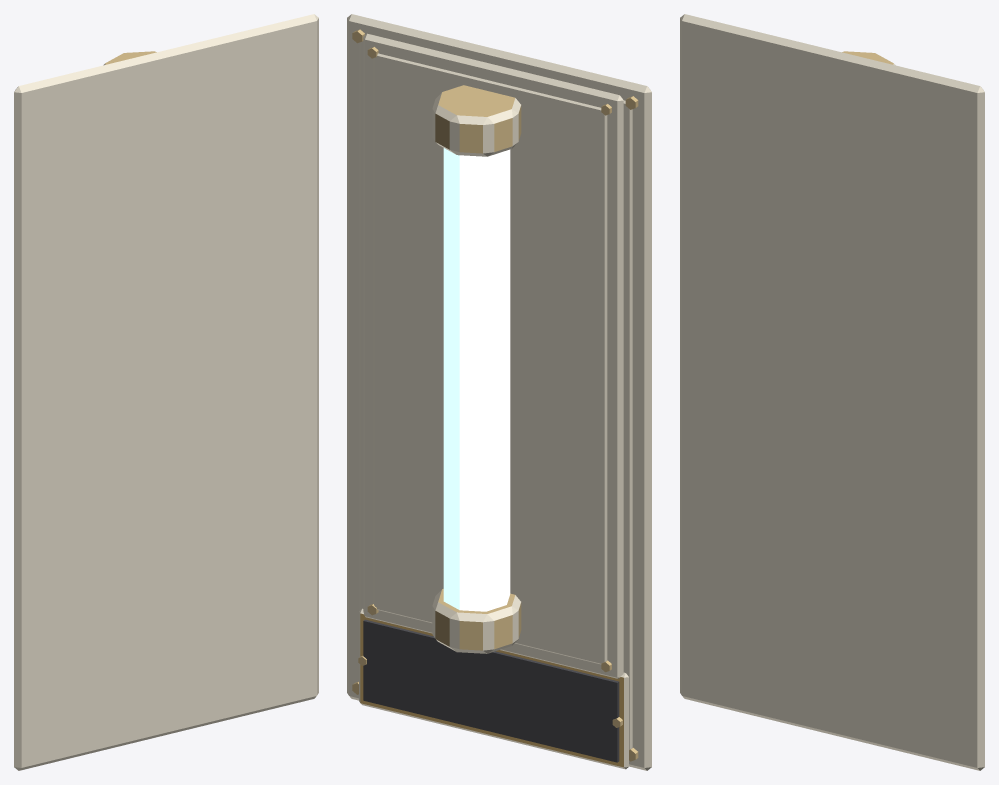
File: Disp_Light_1x2.fbx
3 renders of one model, left to right at view 1: azimuth 30°, elevation 25°; view 2: azimuth 150°, elevation 25°; view 3: azimuth 330°, elevation 25°, orthographic.
Parts seen in each view (by area): view 1: Disp_Light_1x2; view 2: Disp_Light_1x2, Bulb.001; view 3: Disp_Light_1x2.
Part boxes in pixels (<box>): Disp_Light_1x2: <box>14,14,318,770</box>; Disp_Light_1x2: <box>347,14,651,770</box>; Bulb.001: <box>443,148,510,611</box>; Disp_Light_1x2: <box>680,14,984,770</box>.
Bounding box in the file's own units: 0.96 × 2.06 × 0.2591.
